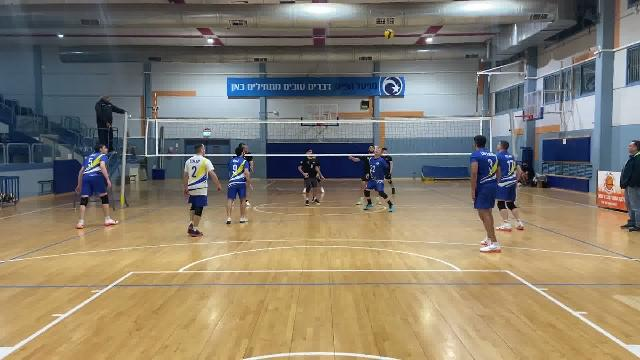ball: (383, 27, 395, 40)
